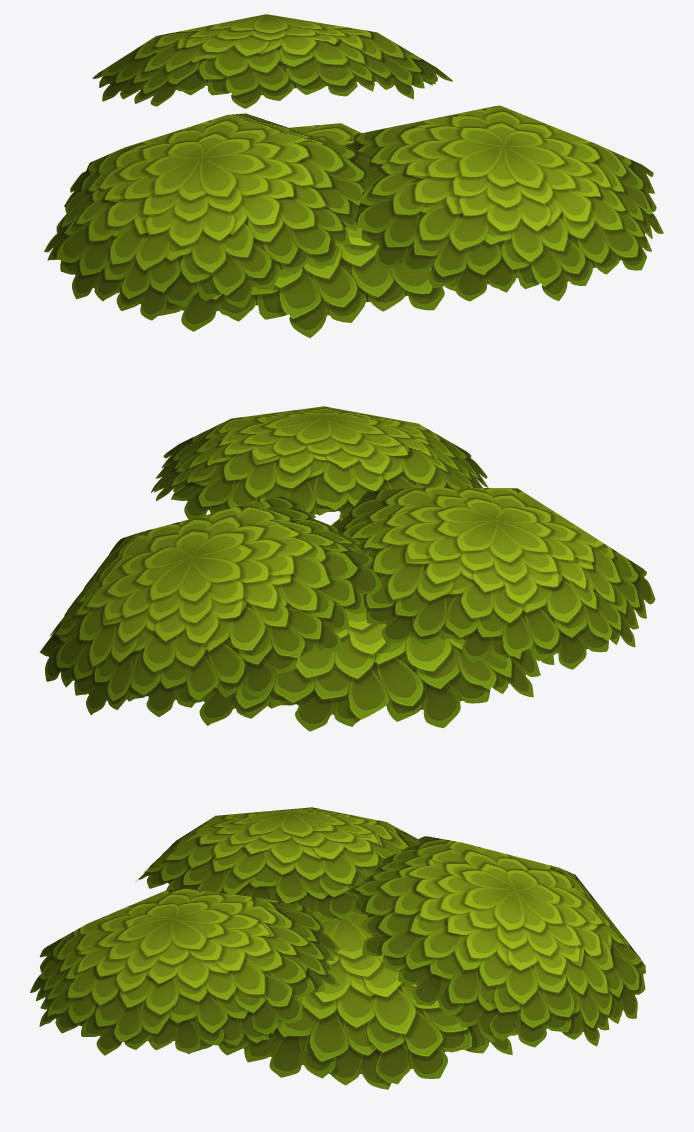
The model's file is Buicay.FBX.
The picture shows the model from 3 angles, top to bottom: view 1: azimuth 30°, elevation 25°; view 2: azimuth 150°, elevation 25°; view 3: azimuth 270°, elevation 25°; orthographic projection. The views are drawn at different scales.
Visible parts, largest first — view 1: Buicay; view 2: Buicay; view 3: Buicay.
Boxes of the visible parts, left/top/right/bottom form: Buicay: left=44, top=14, right=663, bottom=338; Buicay: left=40, top=406, right=655, bottom=731; Buicay: left=30, top=807, right=645, bottom=1089.
Bounding box in the file's own units: 122 × 36.09 × 131.
